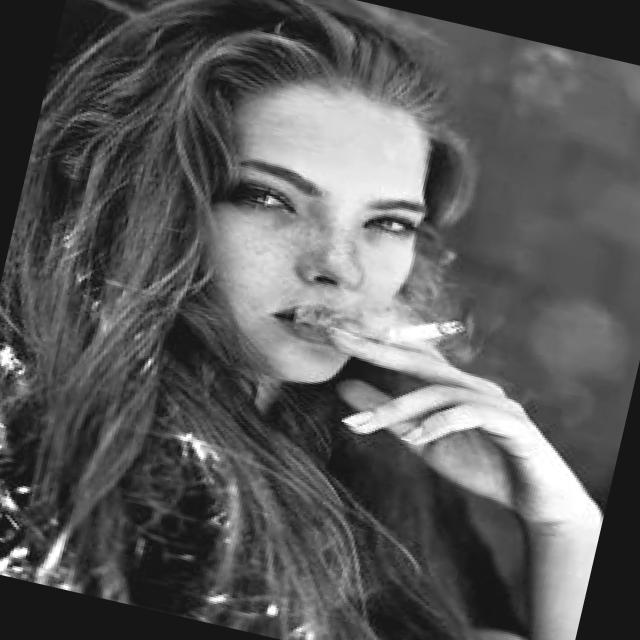cigarette: (354, 292, 472, 373)
